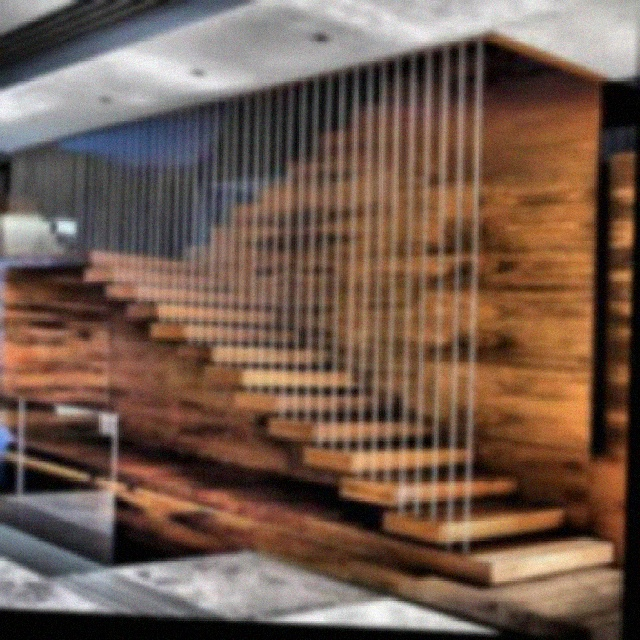stair: (12, 248, 623, 588)
